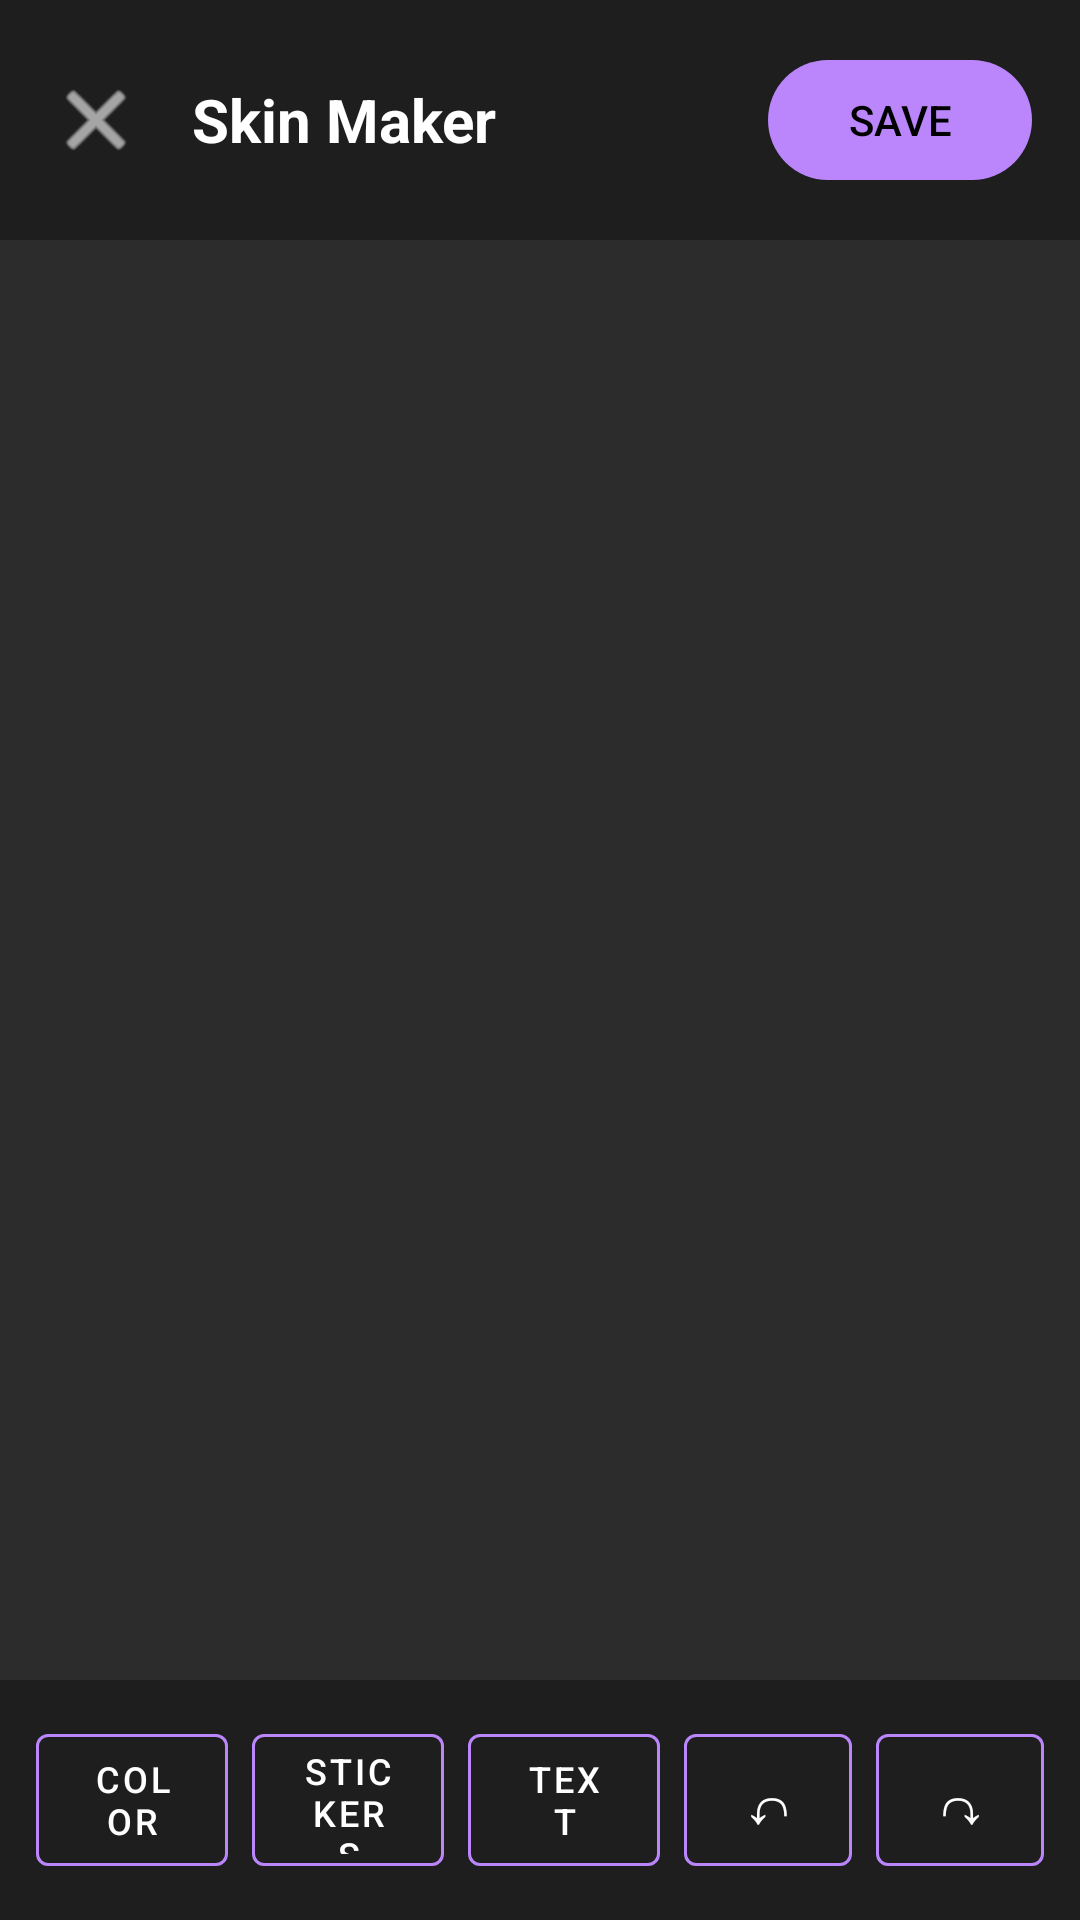

Icons on this 1080w x 1920h Android screen, each with its box as (x1, y1, x2, y2):
Back: (66, 90, 126, 150)
